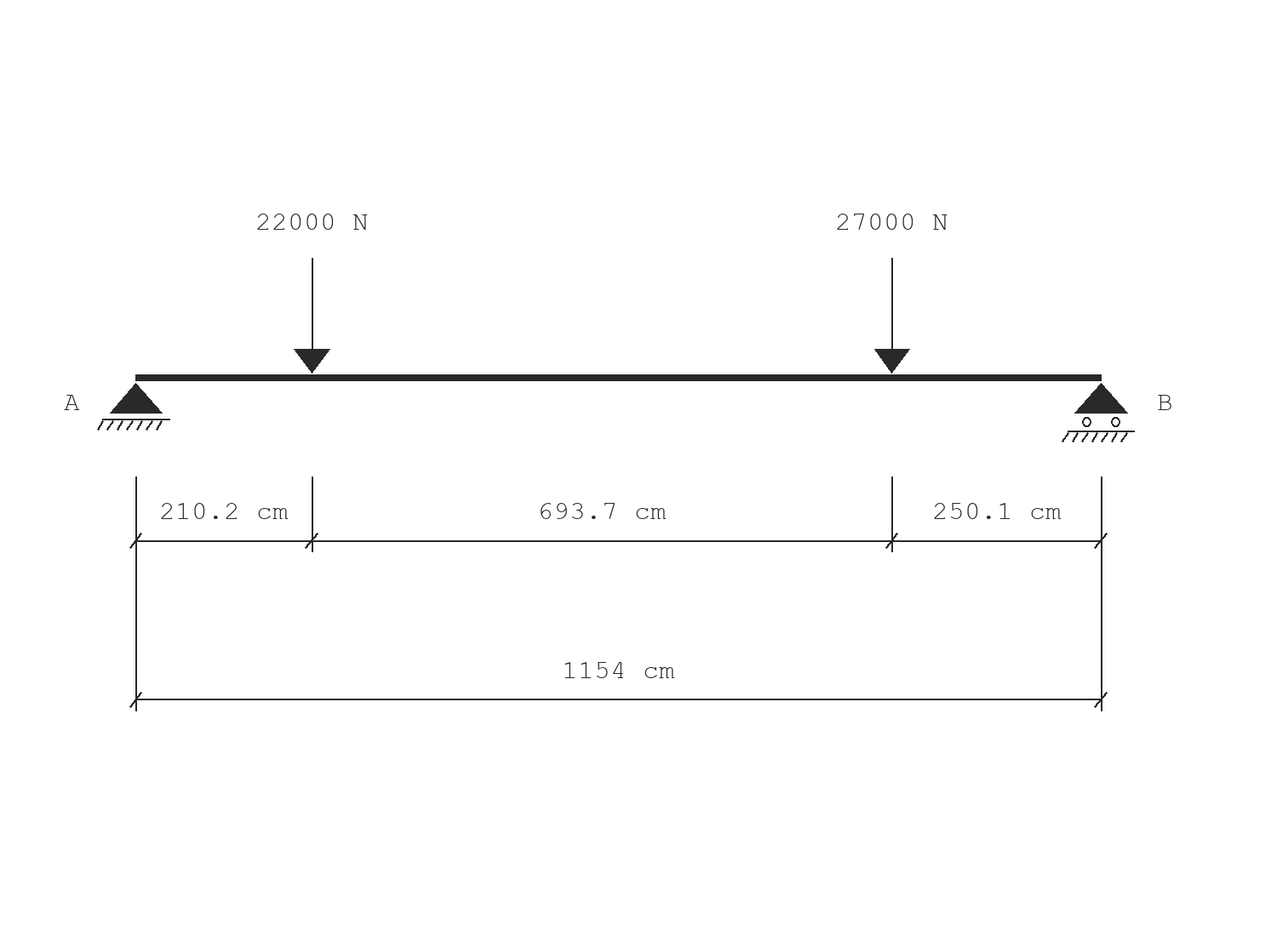pin_support: (97, 383, 170, 431)
point_load: (294, 258, 330, 374), (874, 258, 910, 374)
roller_support: (1062, 383, 1135, 442)
